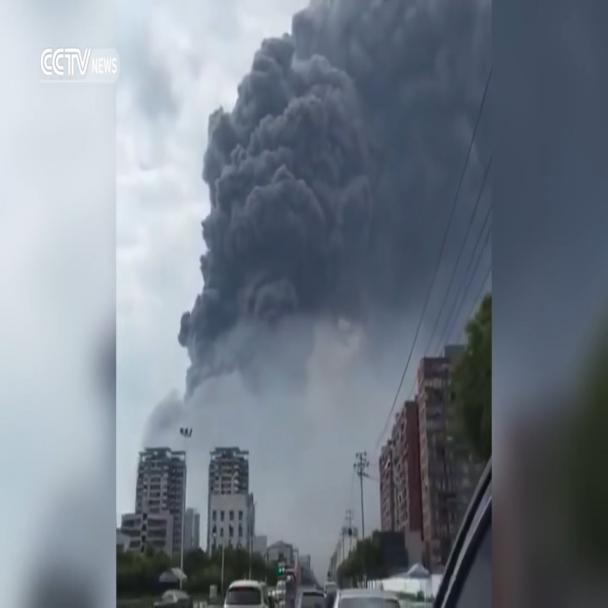smoke: (141, 0, 484, 529)
